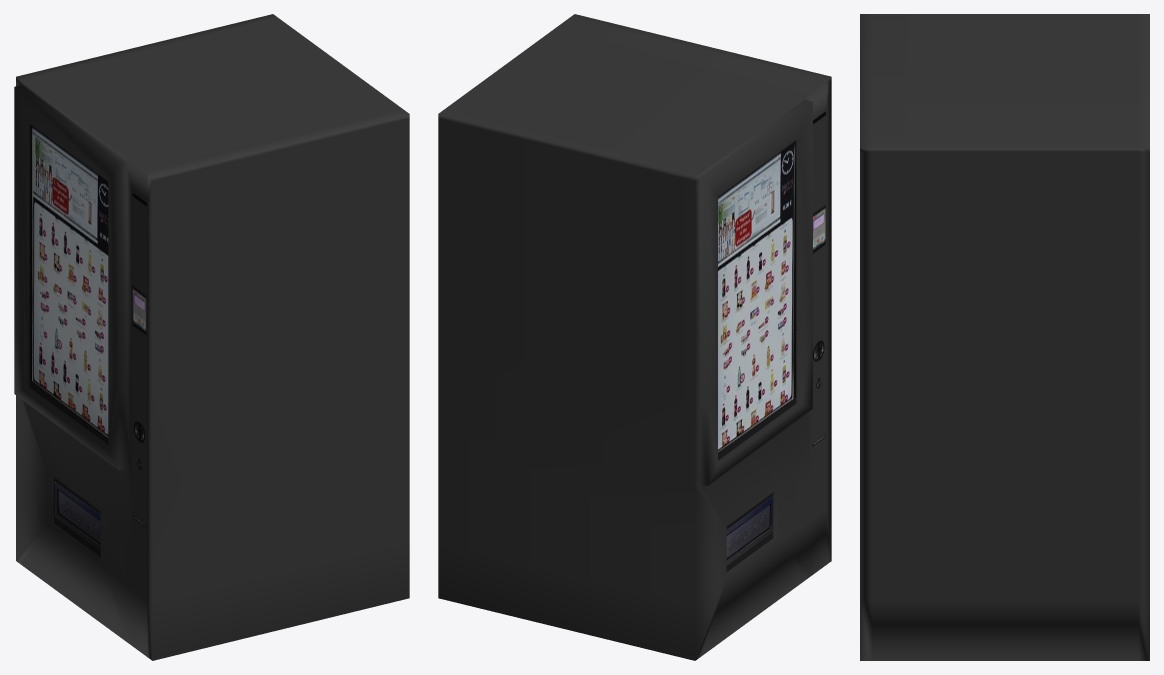
Rendered from MachineABiscuit.fbx.
3 renders of one model, left to right at view 1: azimuth 30°, elevation 25°; view 2: azimuth 150°, elevation 25°; view 3: azimuth 270°, elevation 25°, orthographic. The views are drawn at different scales.
Visible parts, largest first — view 1: MachineBiscuit; view 2: MachineBiscuit; view 3: MachineBiscuit.
Boxes of the visible parts, x1=… form: MachineBiscuit: x1=14, y1=14, x2=409, y2=660; MachineBiscuit: x1=438, y1=14, x2=831, y2=660; MachineBiscuit: x1=860, y1=14, x2=1149, y2=660.
Size of the model in its own units: 110 by 193 by 98.77.
